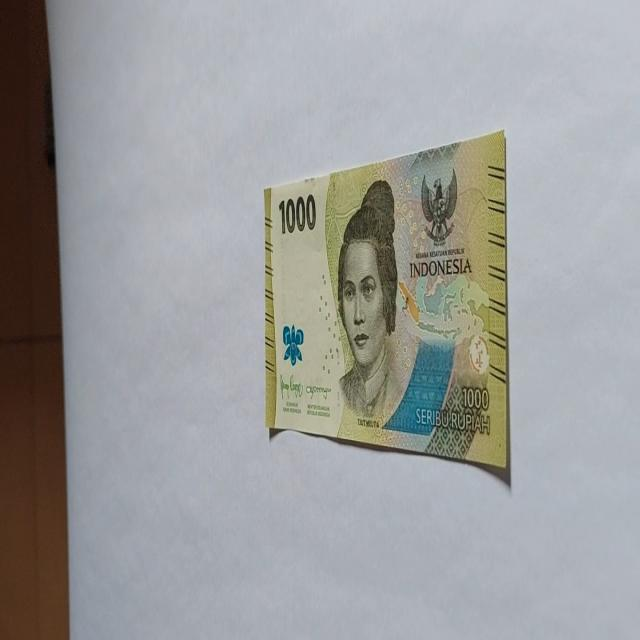seribu rupiah kertas: (262, 128, 510, 486)
